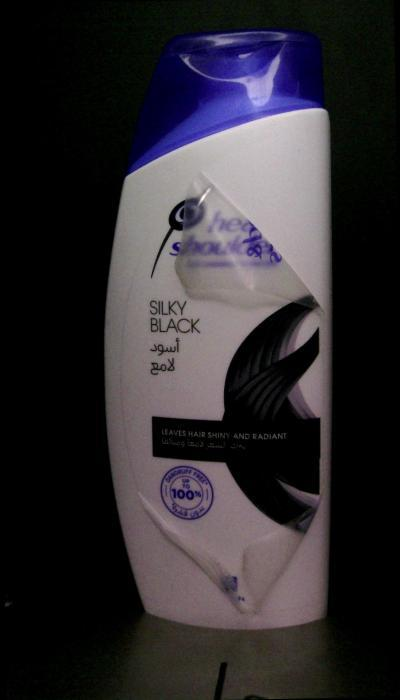adhesion_unacc: (174, 177, 320, 307), (138, 489, 236, 607), (238, 499, 324, 617)
